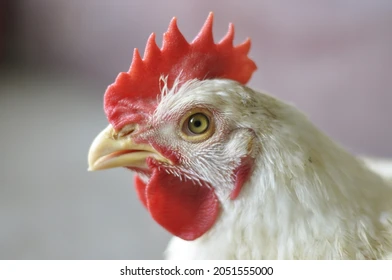Healthy: (71, 8, 308, 250)
